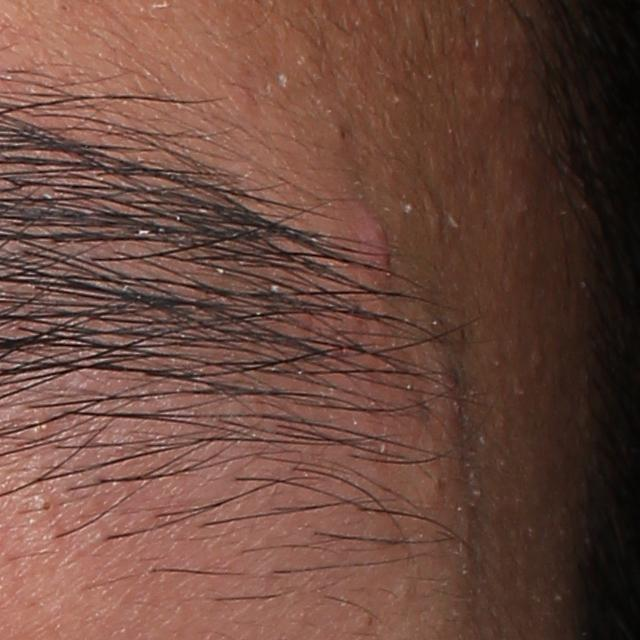comedo: (41, 498, 58, 515)
papule: (352, 198, 393, 284)
